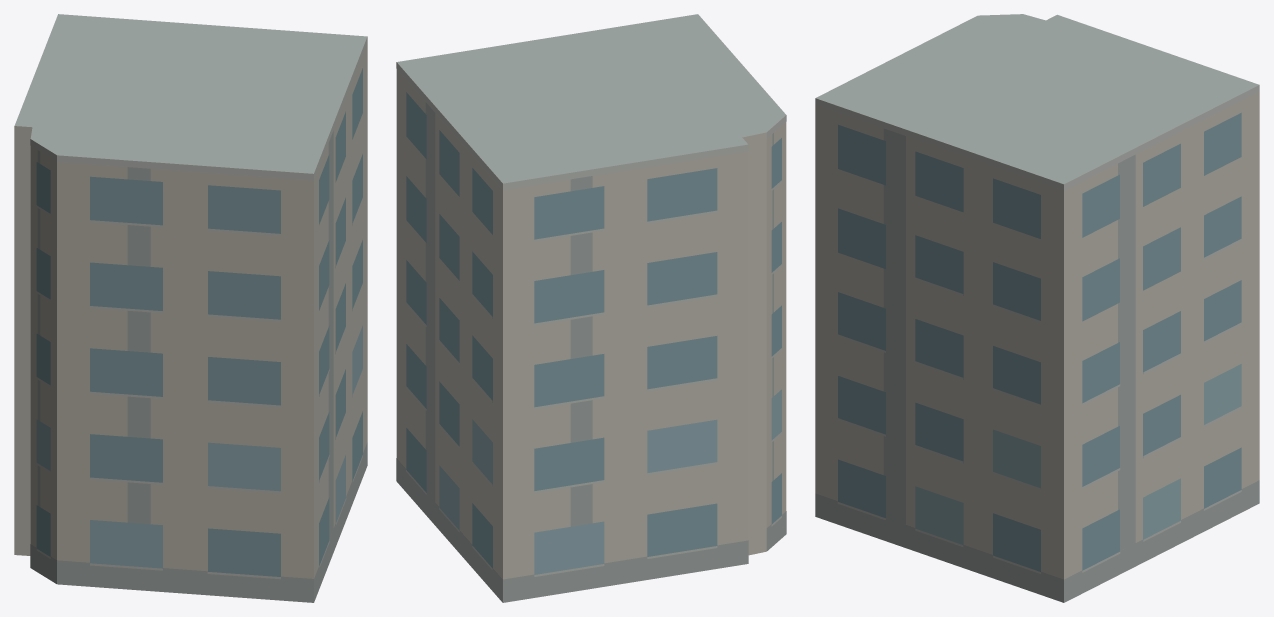
The model's file is survey-upis-33009151.glb.
3 views of the same model, side by side, from view 1: azimuth 30°, elevation 25°; view 2: azimuth 150°, elevation 25°; view 3: azimuth 270°, elevation 25° (orthographic). The views are drawn at different scales.
Parts seen in each view (by area): view 1: survey-upis-33009151.tmp; view 2: survey-upis-33009151.tmp; view 3: survey-upis-33009151.tmp.
Boxes of the visible parts, left/top/right/bottom form: survey-upis-33009151.tmp: left=14, top=14, right=367, bottom=602; survey-upis-33009151.tmp: left=396, top=14, right=786, bottom=602; survey-upis-33009151.tmp: left=815, top=14, right=1259, bottom=602.
Size of the model in its own units: 13.66 by 15.65 by 15.06.
